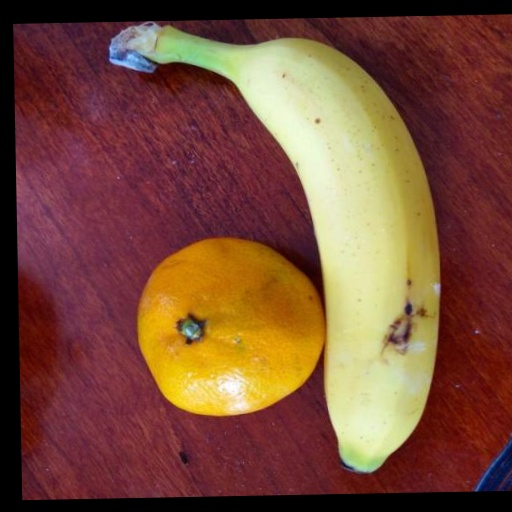fruit: (112, 24, 440, 471), (138, 238, 325, 414)
